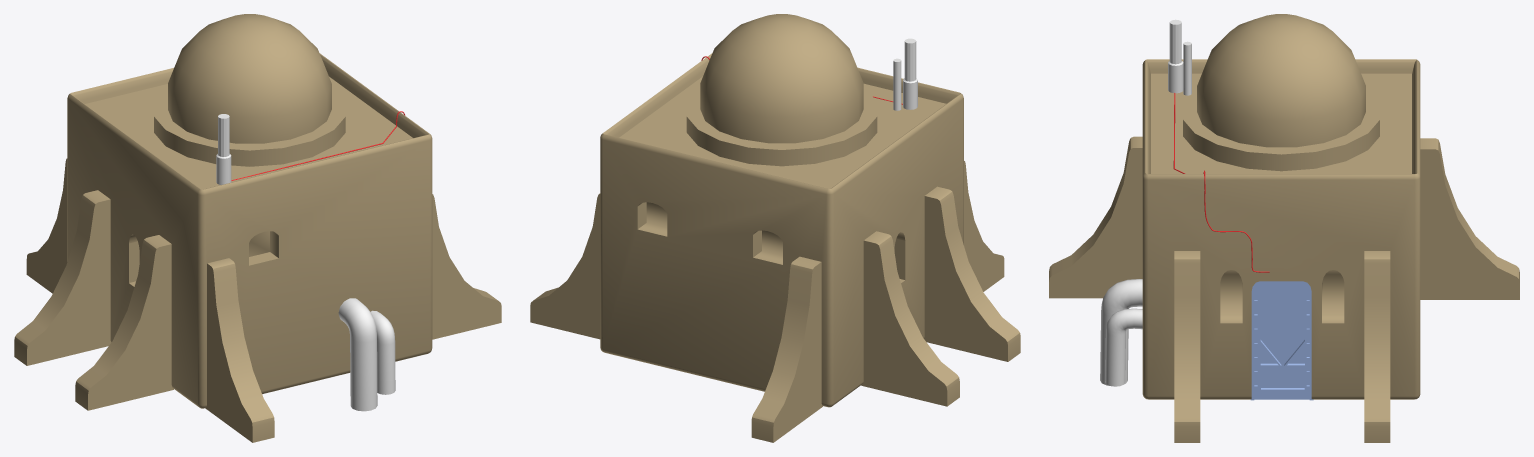
File: House.fbx
3 views of the same model, side by side, from view 1: azimuth 30°, elevation 25°; view 2: azimuth 150°, elevation 25°; view 3: azimuth 270°, elevation 25° (orthographic). The views are drawn at different scales.
Parts seen in each view (by area): view 1: HouseBase, Tuberias, Chimney; view 2: HouseBase, Chimney; view 3: HouseBase, Door, Tuberias, Chimney.
Boxes of the visible parts, x1,y1,x2,y2 form: HouseBase: [14, 14, 501, 442]; Tuberias: [338, 298, 395, 411]; Chimney: [216, 114, 231, 184]; HouseBase: [530, 14, 1020, 442]; Chimney: [893, 38, 917, 110]; HouseBase: [1049, 14, 1519, 442]; Door: [1250, 281, 1313, 400]; Tuberias: [1100, 279, 1142, 386]; Chimney: [1168, 19, 1191, 95].
Size of the model in its own units: 856 by 681 by 847.
